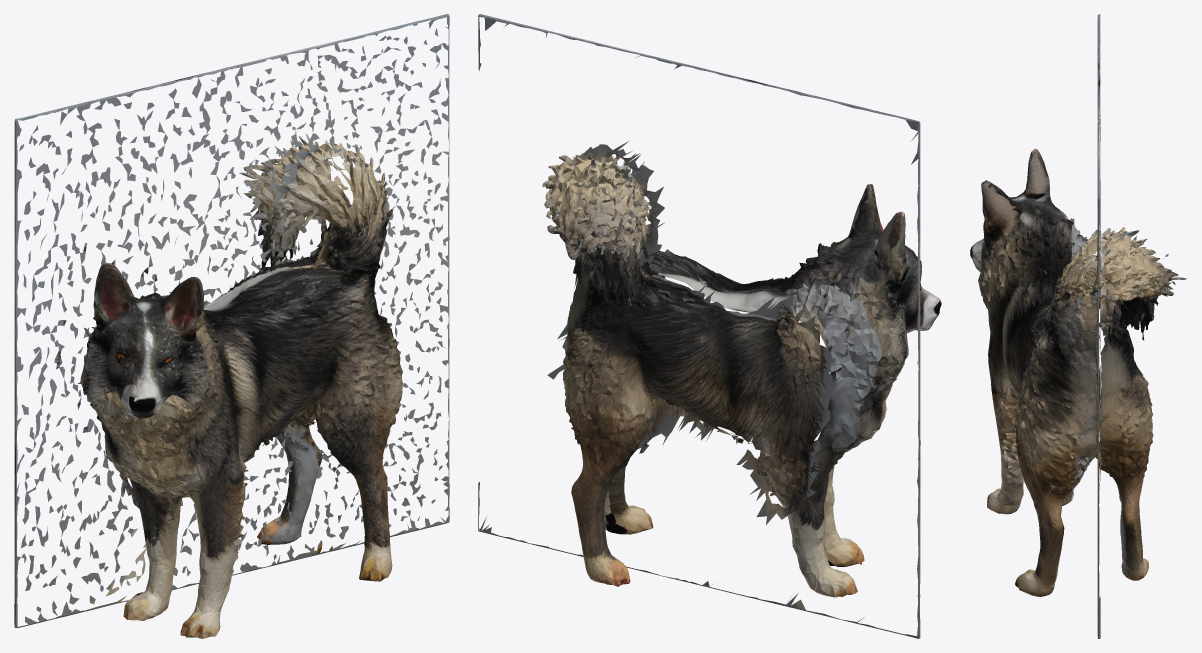
File: expo.glb
3 views of the same model, side by side, from view 1: azimuth 30°, elevation 25°; view 2: azimuth 150°, elevation 25°; view 3: azimuth 270°, elevation 25° (orthographic). The views are drawn at different scales.
Visible parts, largest first — view 1: dog; view 2: dog; view 3: dog.
Part boxes in pixels (x1,y1,x2,y2): dog: (14,14,449,638); dog: (478,14,941,638); dog: (970,14,1187,638).
Size of the model in its own units: 1.78 by 1.99 by 0.8902.
Materials: 1 (1 with a texture image).
